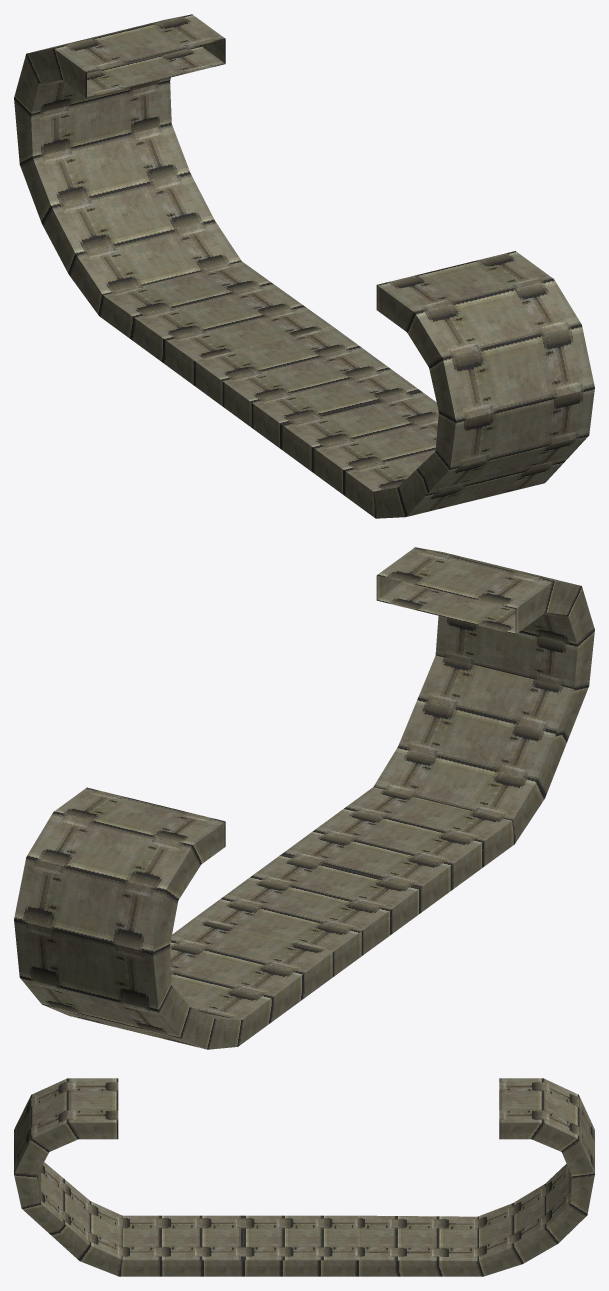
File: VWFHTNKH_TRAC_L.obj
The picture shows the model from 3 angles, top to bottom: view 1: azimuth 30°, elevation 25°; view 2: azimuth 150°, elevation 25°; view 3: azimuth 270°, elevation 25°; orthographic projection. The views are drawn at different scales.
Parts seen in each view (by area): view 1: Node 0; view 2: Node 0; view 3: Node 0.
Part boxes in pixels (box(x1,y1,x2,y2)): Node 0: box(14, 14, 594, 518); Node 0: box(14, 547, 594, 1049); Node 0: box(14, 1078, 594, 1276).
Bounding box in the file's own units: 0.98 × 1.58 × 5.4.
